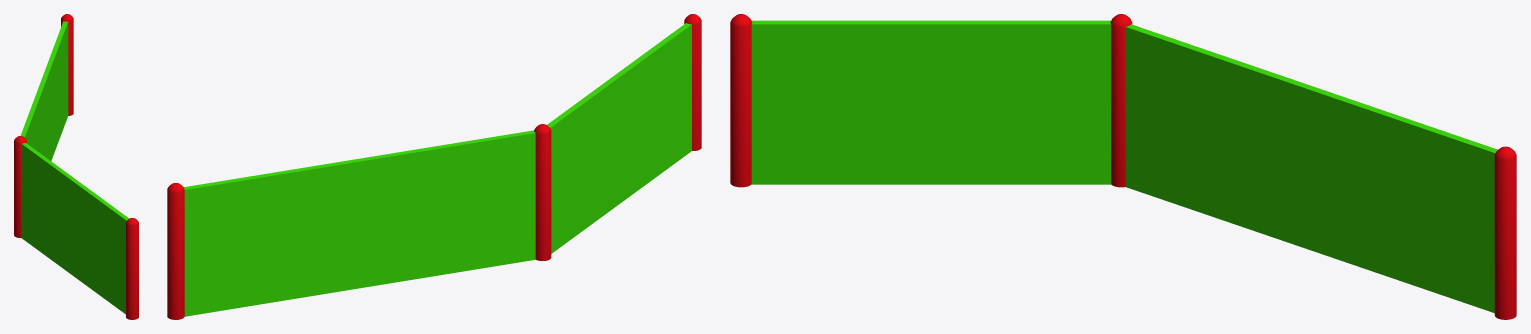
File: GenisAcili_Duvar.fbx
The picture shows the model from 3 angles, left to right: view 1: azimuth 30°, elevation 25°; view 2: azimuth 150°, elevation 25°; view 3: azimuth 270°, elevation 25°; orthographic projection. The views are drawn at different scales.
Parts seen in each view (by area): view 1: GenisAcili_Duvar; view 2: GenisAcili_Duvar; view 3: GenisAcili_Duvar.
Boxes of the visible parts, left/top/right/bottom form: GenisAcili_Duvar: left=14, top=14, right=138, bottom=319; GenisAcili_Duvar: left=167, top=14, right=701, bottom=319; GenisAcili_Duvar: left=730, top=14, right=1516, bottom=319.
Bounding box in the file's own units: 380 × 210 × 890.
